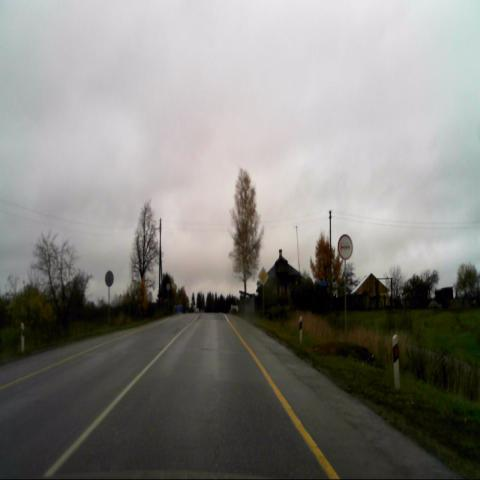3_20: (338, 234, 353, 259)
